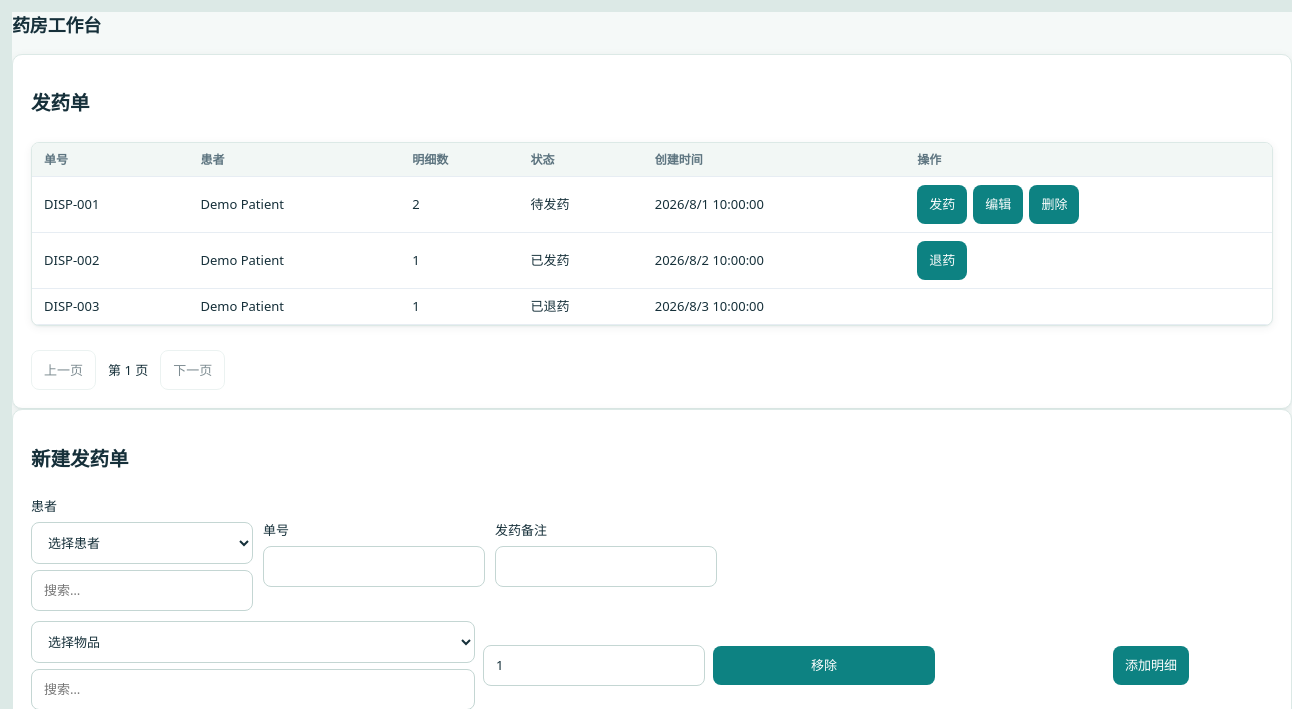
it: DispenseWorkbenchPage › returns items of a dispensed order
Expected: the text "DISP-002" is shown, left=32, top=232, right=188, bottom=288
Click the button "退药" at (942, 260), box left=917, top=241, right=967, bottom=280
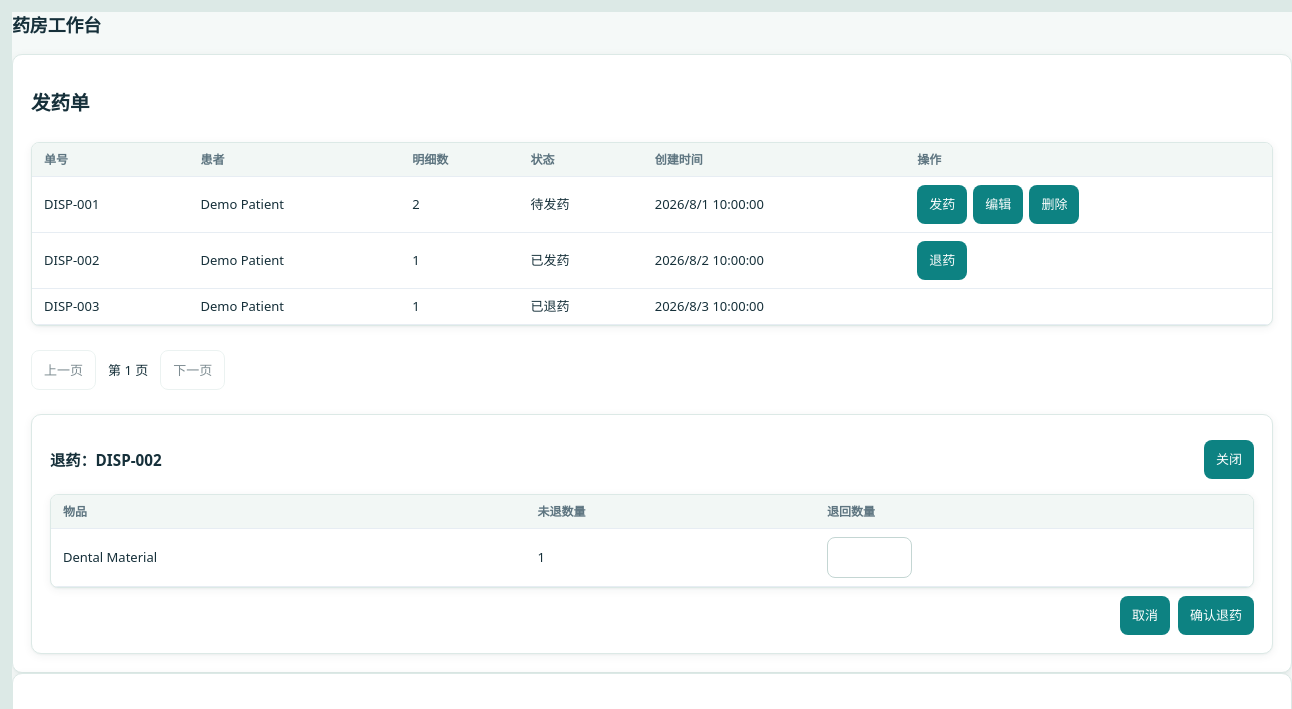
Expected: the number field named "退回数量" is shown
Expected: the button "确认退药" is enabled, left=1178, top=596, right=1254, bottom=635
Type "1" into the number field named "退回数量" at (869, 558), box left=827, top=537, right=912, bottom=578
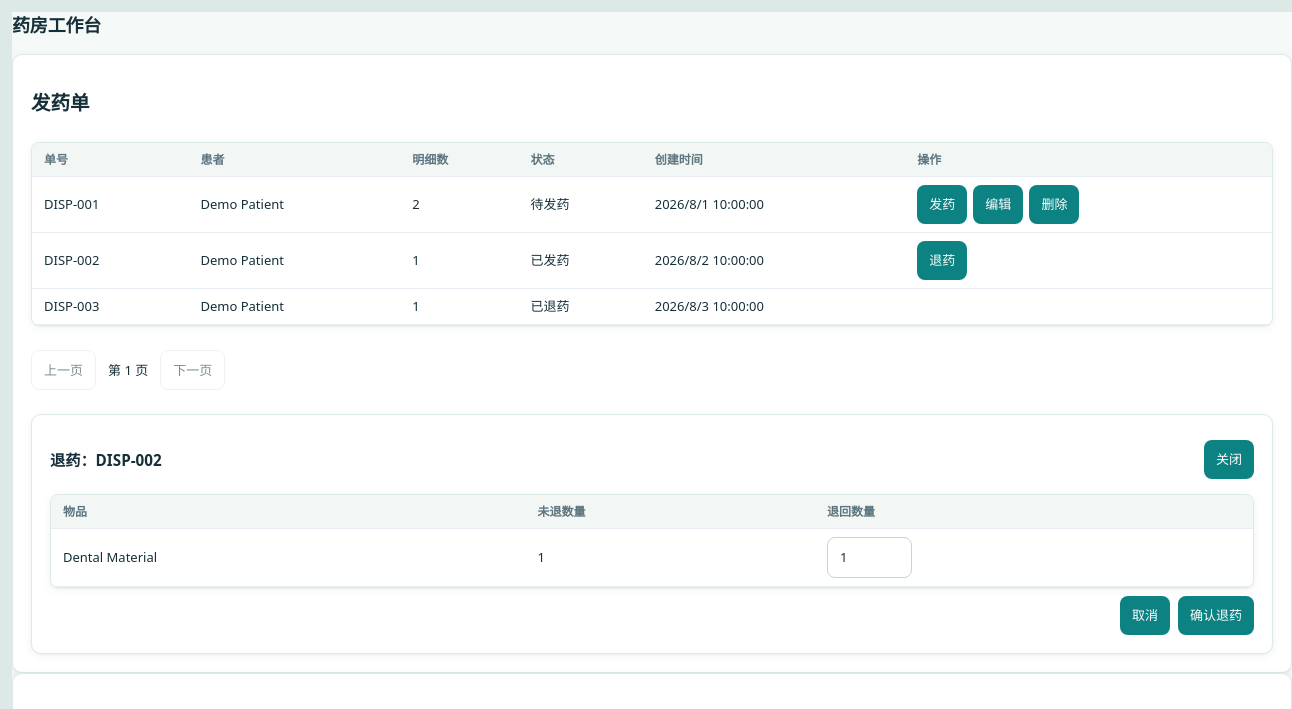
Click the button "确认退药" at (1216, 616), box left=1178, top=596, right=1254, bottom=635
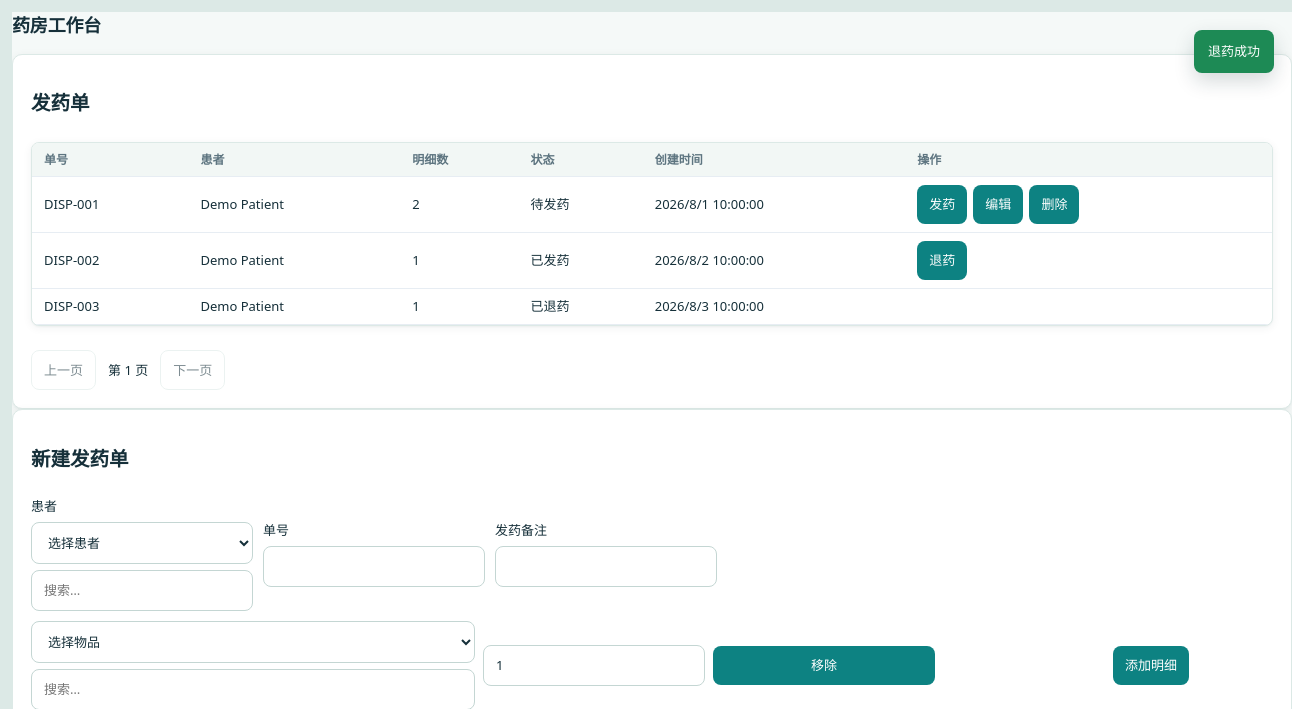
Expected: the text "退药成功" is shown, left=1194, top=30, right=1274, bottom=73
